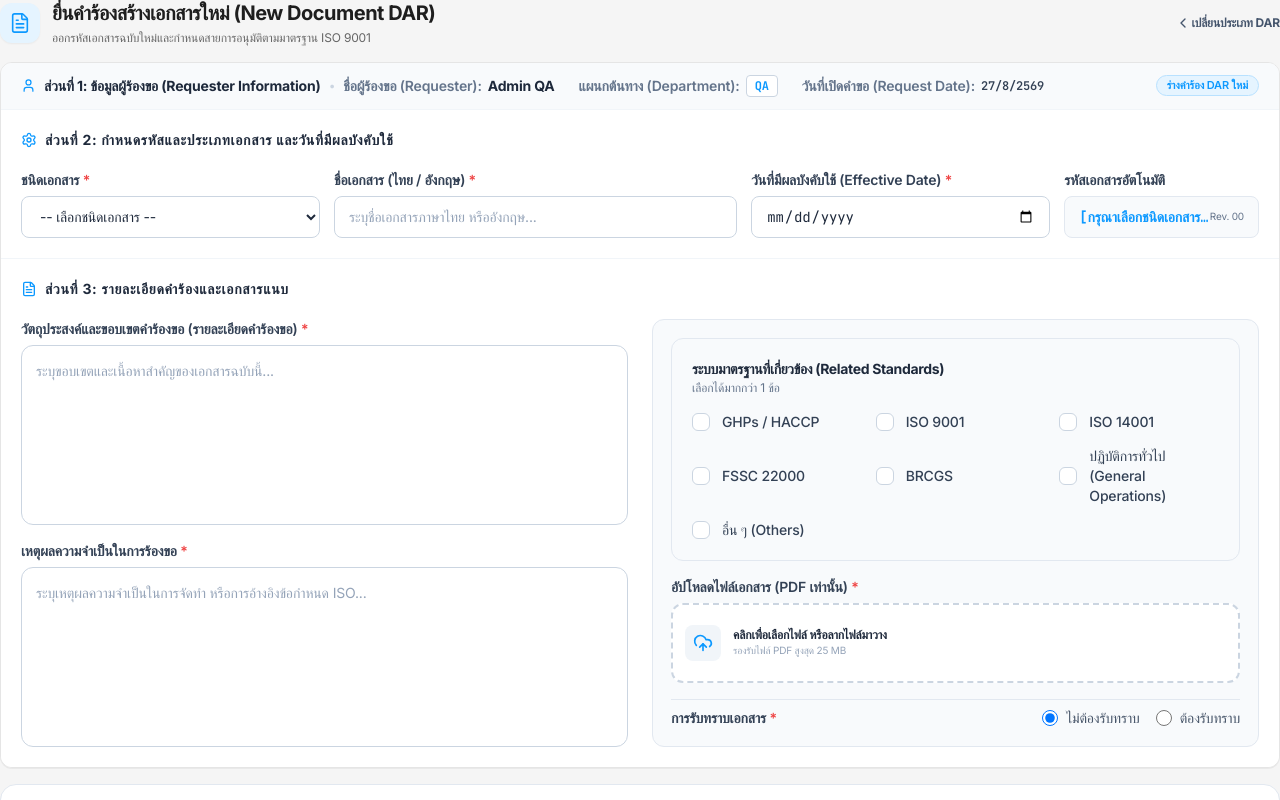
Layout Cleanliness & Ghost Container Elimination Tests › renders standard Distribution Matrix (DistributionSetup) when docType is SOP and does not render FormDistributionSetup
The width and height of the screenshot is (1280, 800).
Select docType: SOP
Select "Standard Operating Procedure (SOP)" in the dropdown at [170, 216], box top-left (21, 196), bottom-right (320, 238)
(page scrolled)
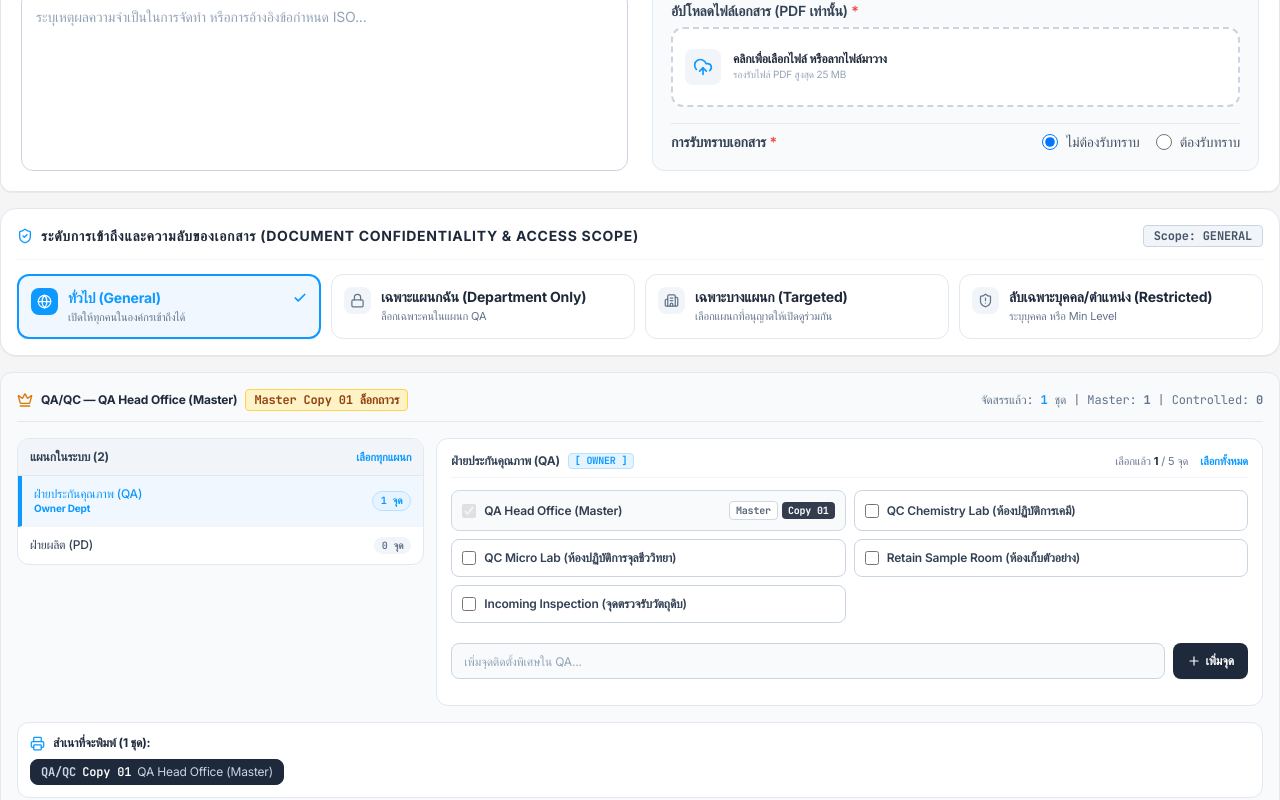
Expected: the text "Master Copy 01 ล็อกถาวร" is shown, top-left (245, 389), bottom-right (408, 411)
